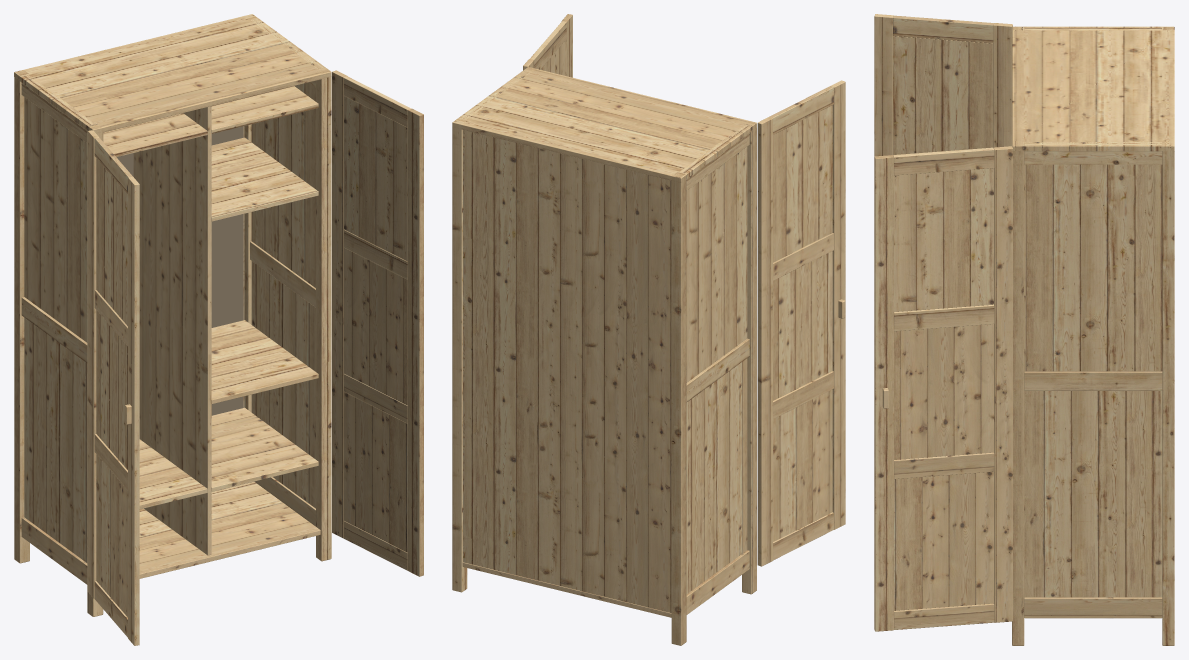
Rendered from armario_aberto.glb.
The picture shows the model from 3 angles, left to right: view 1: azimuth 30°, elevation 25°; view 2: azimuth 150°, elevation 25°; view 3: azimuth 270°, elevation 25°; orthographic projection. The views are drawn at different scales.
Visible parts, largest first — view 1: divisoria_17, tampo_14, almofada_lateral_7, almofada_lateral_8, porta_dir_8, almofada_lateral_12, fundo_15, porta_dir_6, porta_dir_7, porta_dir_1, pilar_2, almofada_lateral_13 (+29 smaller); view 2: costas_16, tampo_14, almofada_lateral_7, almofada_lateral_8, porta_esq_8, pilar_1, porta_esq_6, porta_esq_7, porta_esq_0, porta_esq_1, pilar_3, pilar_0 (+9 smaller); view 3: almofada_lateral_13, almofada_lateral_12, tampo_14, porta_dir_8, porta_dir_6, porta_dir_7, porta_esq_8, porta_dir_1, porta_dir_0, pilar_3, pilar_2, travessa_lateral_9 (+10 smaller).
Boxes of the visible parts, <box> form: divisoria_17: <box>133,106,211,555</box>; tampo_14: <box>14,14,331,133</box>; almofada_lateral_7: <box>24,317,87,562</box>; almofada_lateral_8: <box>24,97,87,342</box>; porta_dir_8: <box>344,96,407,261</box>; almofada_lateral_12: <box>251,261,315,508</box>; fundo_15: <box>139,481,320,578</box>; porta_dir_6: <box>344,392,407,552</box>; porta_dir_7: <box>344,248,407,405</box>; porta_dir_1: <box>407,108,423,576</box>; pilar_2: <box>316,68,331,561</box>; almofada_lateral_13: <box>251,82,315,287</box>; costas_16: <box>463,130,671,612</box>; tampo_14: <box>452,67,756,182</box>; almofada_lateral_7: <box>686,358,747,593</box>; almofada_lateral_8: <box>686,147,747,382</box>; porta_esq_8: <box>773,105,832,262</box>; pilar_1: <box>671,172,686,645</box>; porta_esq_6: <box>773,389,832,541</box>; porta_esq_7: <box>773,251,832,400</box>; porta_esq_0: <box>757,117,772,566</box>; porta_esq_1: <box>830,80,845,529</box>; pilar_3: <box>452,119,467,592</box>; pilar_0: <box>742,121,756,594</box>; almofada_lateral_13: <box>1024,164,1162,371</box>; almofada_lateral_12: <box>1024,391,1162,597</box>; tampo_14: <box>1012,26,1174,151</box>; porta_dir_8: <box>894,168,993,311</box>; porta_dir_6: <box>894,472,993,610</box>; porta_dir_7: <box>894,324,993,459</box>; porta_esq_8: <box>893,36,993,154</box>; porta_dir_1: <box>874,155,893,631</box>; porta_dir_0: <box>993,146,1012,622</box>; pilar_3: <box>1162,141,1174,645</box>; pilar_2: <box>1012,141,1024,645</box>; travessa_lateral_9: <box>1024,597,1162,618</box>.
Size of the model in its own units: 1.3 by 2.03 by 1.1.
3 materials, 1 textured.
